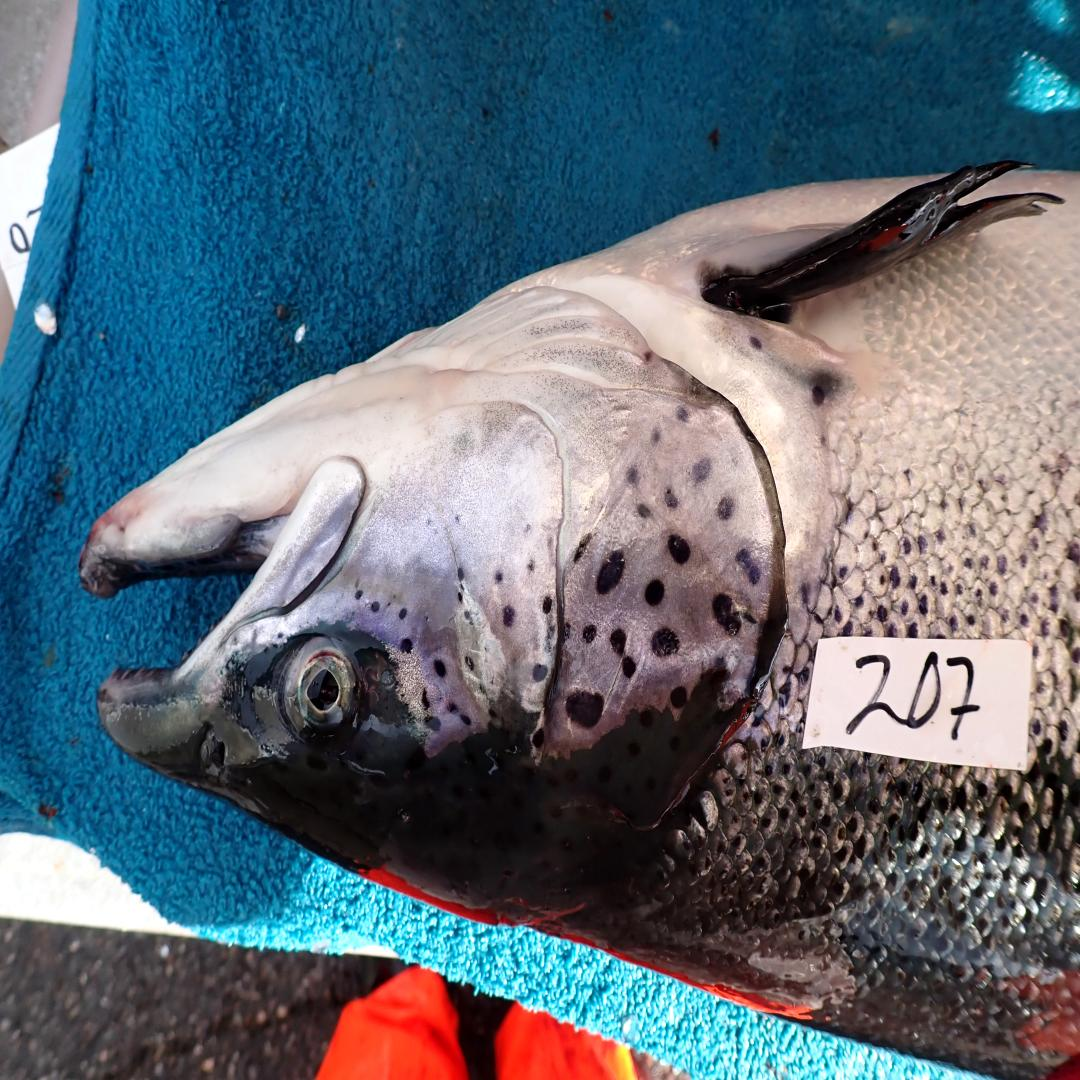roi: (359, 283, 783, 760)
